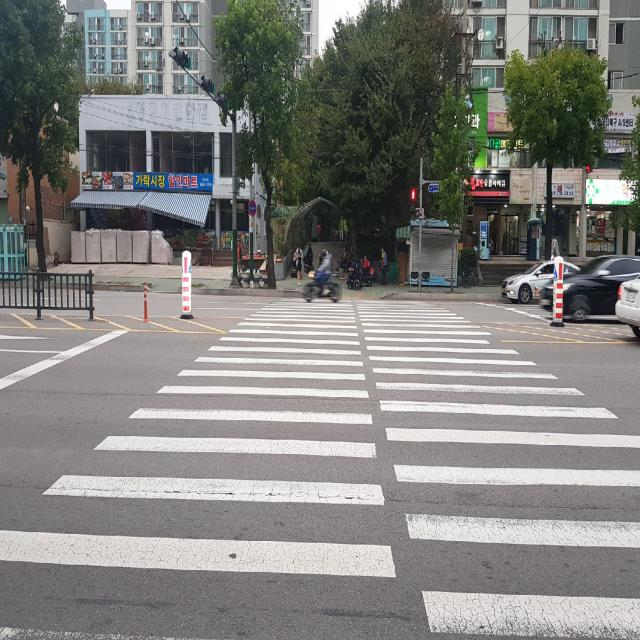빨간불: (410, 190, 416, 218)
횡단보도: (0, 298, 640, 639)
